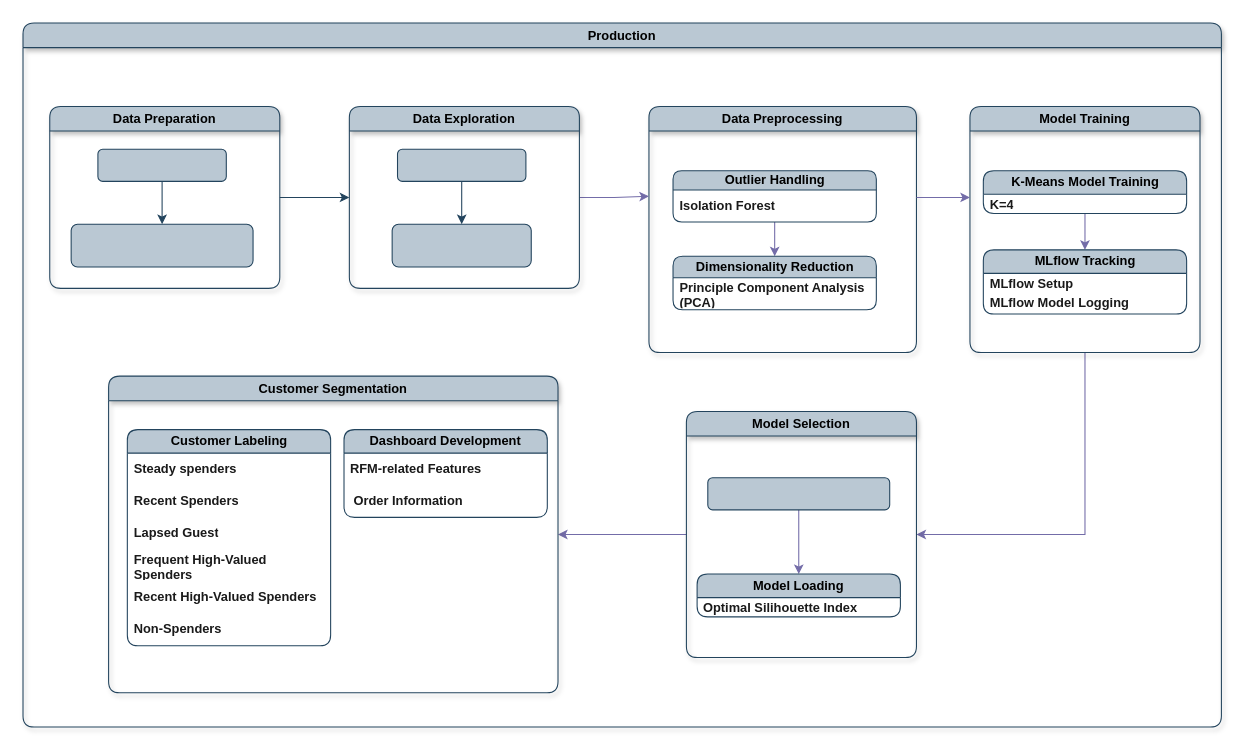
Image size: 1247x753. Some labels were removed from this diagram. The shapes that lost their labels are listed below. From the top down, each one's centre as x and y in pixels, then its label:
(161,164): Data Cleaning
(461,164): General Exploration
(161,245): RFM based Featrue Engineering
(461,245): Segment-Specific Exploration
(798,493): Historical Run Generation
